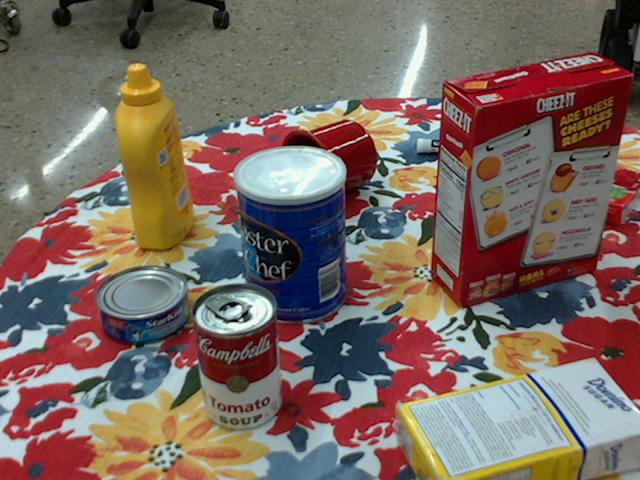cracker_box: (434, 54, 633, 308)
gelatin_box: (557, 160, 639, 225)
large_marker: (417, 137, 513, 156)
master_chef_can: (233, 144, 345, 324)
mug: (278, 119, 376, 209)
mustard_bottle: (116, 65, 194, 250)
sugar_box: (396, 357, 639, 479)
tomato_soup_can: (190, 282, 280, 429)
tuna_fish_can: (94, 264, 188, 342)
